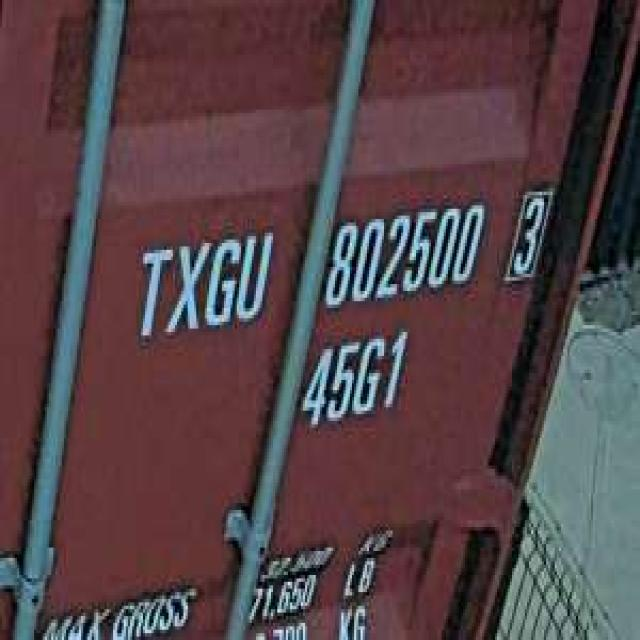dv: (503, 174, 552, 291)
owner: (132, 219, 275, 346)
serial: (318, 192, 486, 312)
size: (296, 325, 414, 438)
